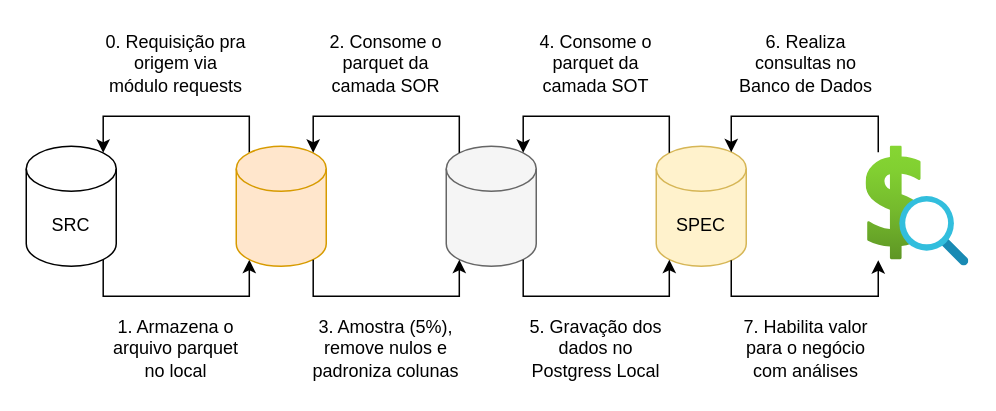
This 996x411 diagram has some shape labels left out. Here are the shapes that lost their labels. From the top down, the centre of each, then its label:
the point at 280,205: SOR
the point at 490,205: SOT
